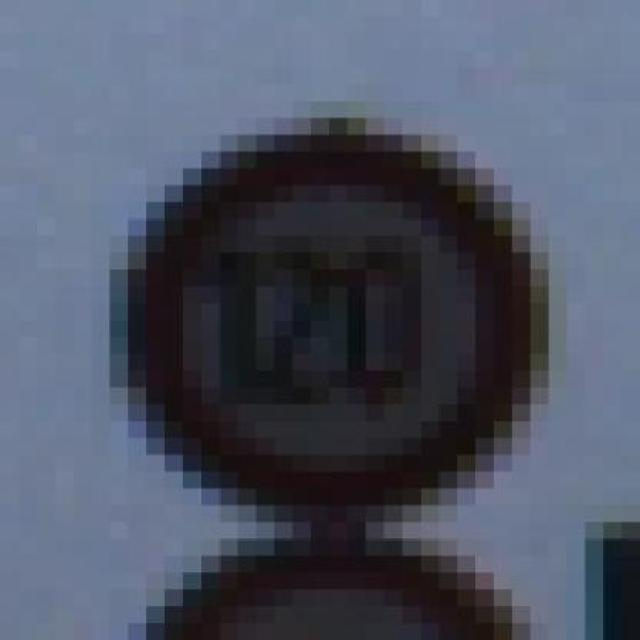forb_speed_over_120: (134, 140, 541, 511)
